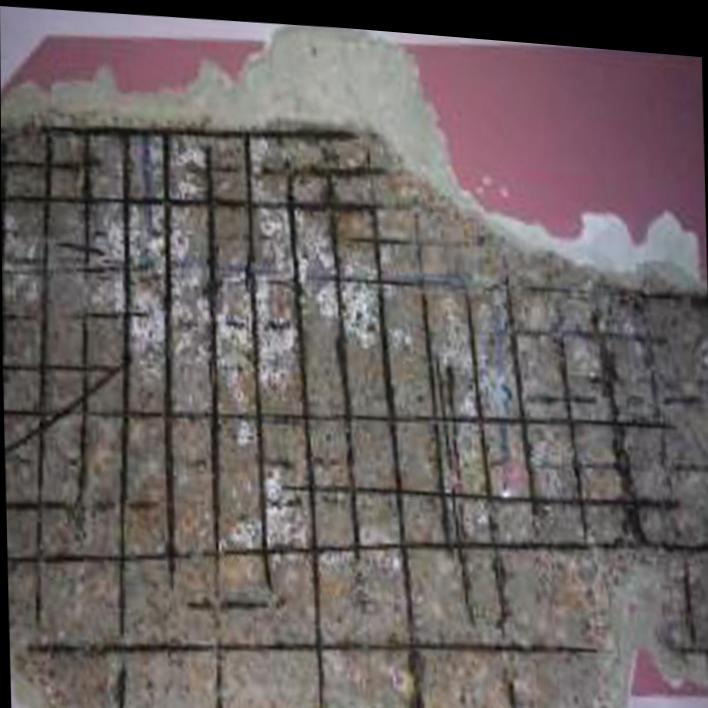damage: (1, 124, 708, 708)
